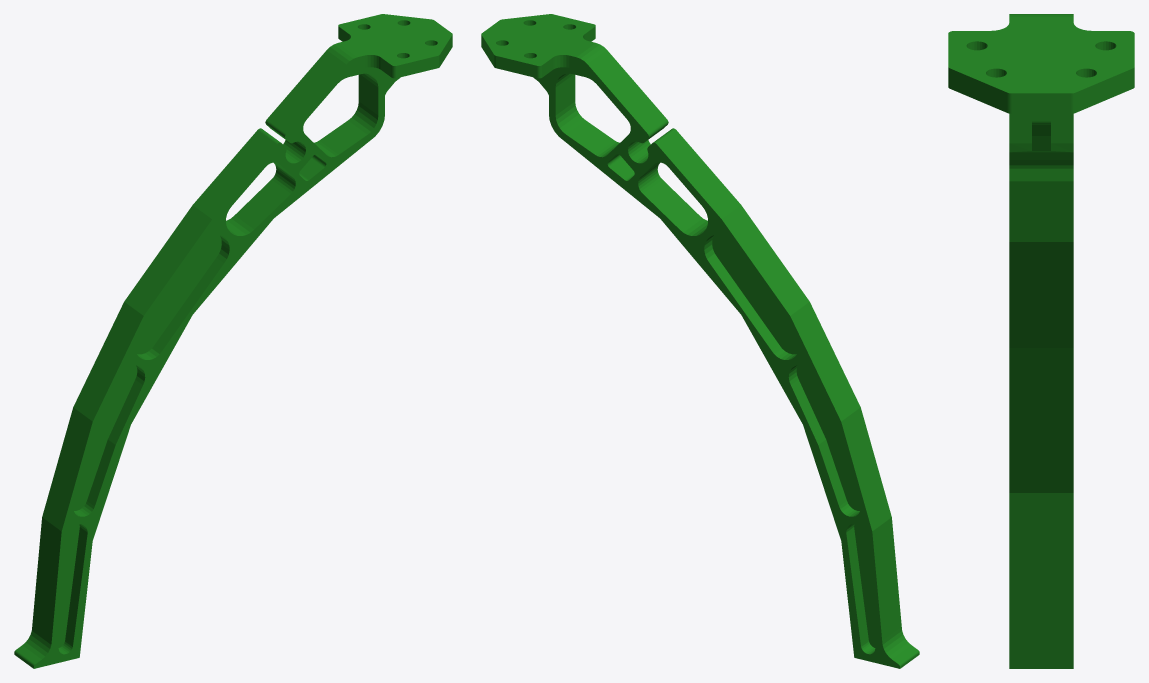
File: Leg_01_Leg.obj
3 renders of one model, left to right at view 1: azimuth 30°, elevation 25°; view 2: azimuth 150°, elevation 25°; view 3: azimuth 270°, elevation 25°, orthographic. The views are drawn at different scales.
Bounding box in the file's own units: 0.1235 × 0.15 × 0.029.
